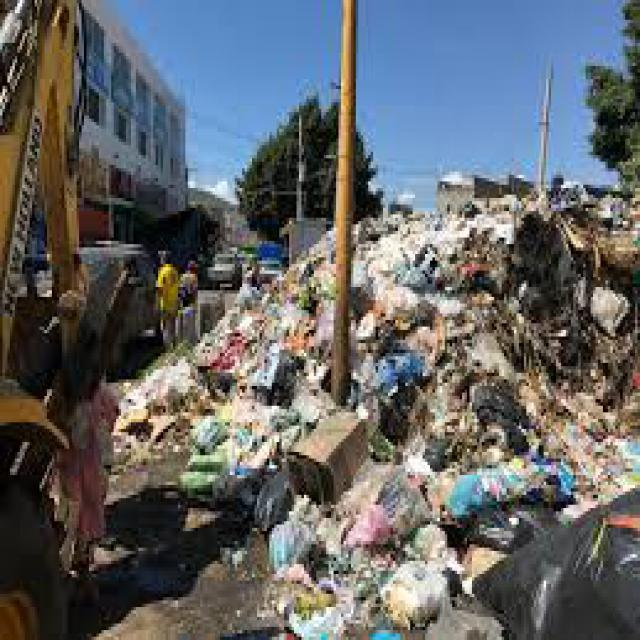Trashbag: (467, 484, 640, 640)
